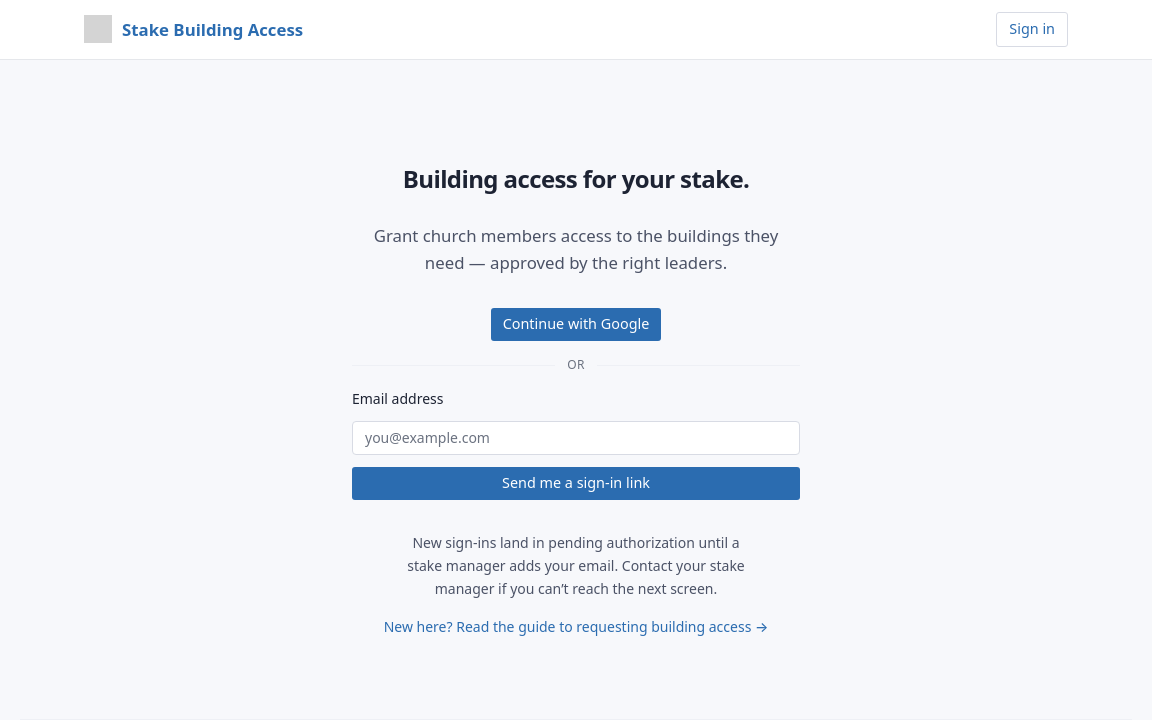
Test: SignInPage — both providers › translates an unrecognised Google failure rather than echoing it
Click the button "Continue with Google".
click(576, 325)  # box top-left (491, 308), bottom-right (661, 341)
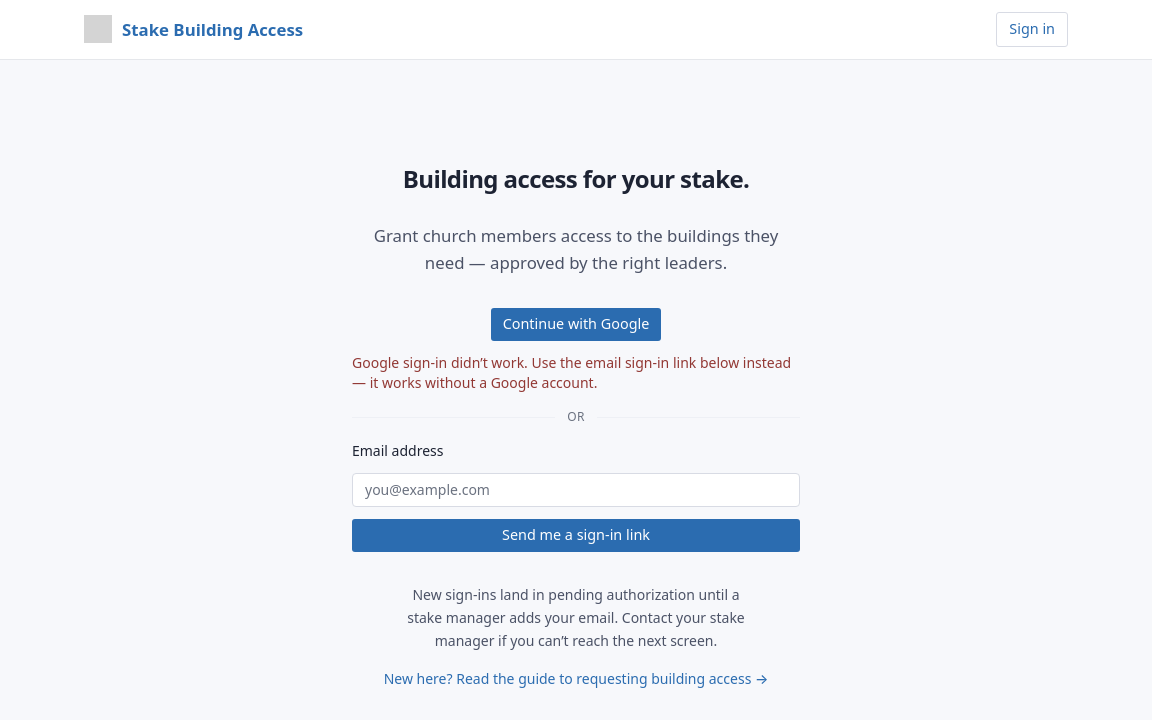
Expected: the message does not show "kaboom", top-left (352, 353), bottom-right (800, 393)
Result: the message shows "email sign-in link below" at top-left (352, 353), bottom-right (791, 392)
